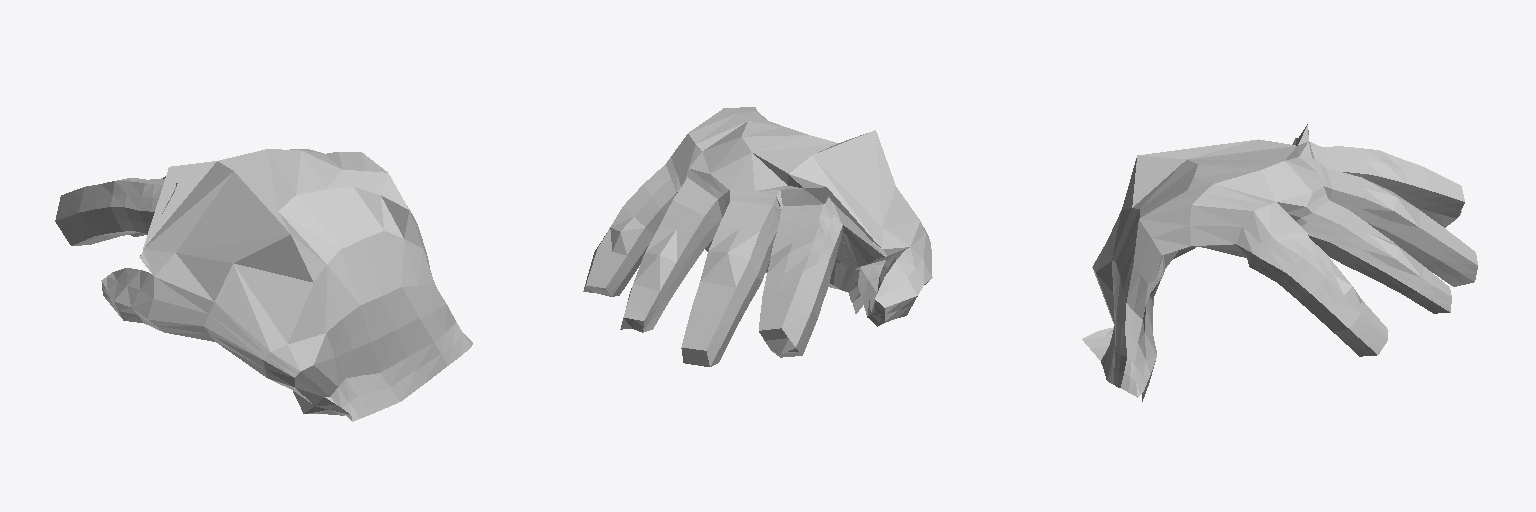
File: flexion0056.obj
3 views of the same model, side by side, from view 1: azimuth 30°, elevation 25°; view 2: azimuth 150°, elevation 25°; view 3: azimuth 270°, elevation 25° (orthographic).
Visible parts, largest first — view 1: Hand; view 2: Hand; view 3: Hand.
Boxes of the visible parts, <box> form: Hand: <box>55,149,472,421</box>; Hand: <box>583,107,932,366</box>; Hand: <box>1082,124,1477,401</box>.
Bounding box in the file's own units: 3.27 × 2.22 × 3.84.